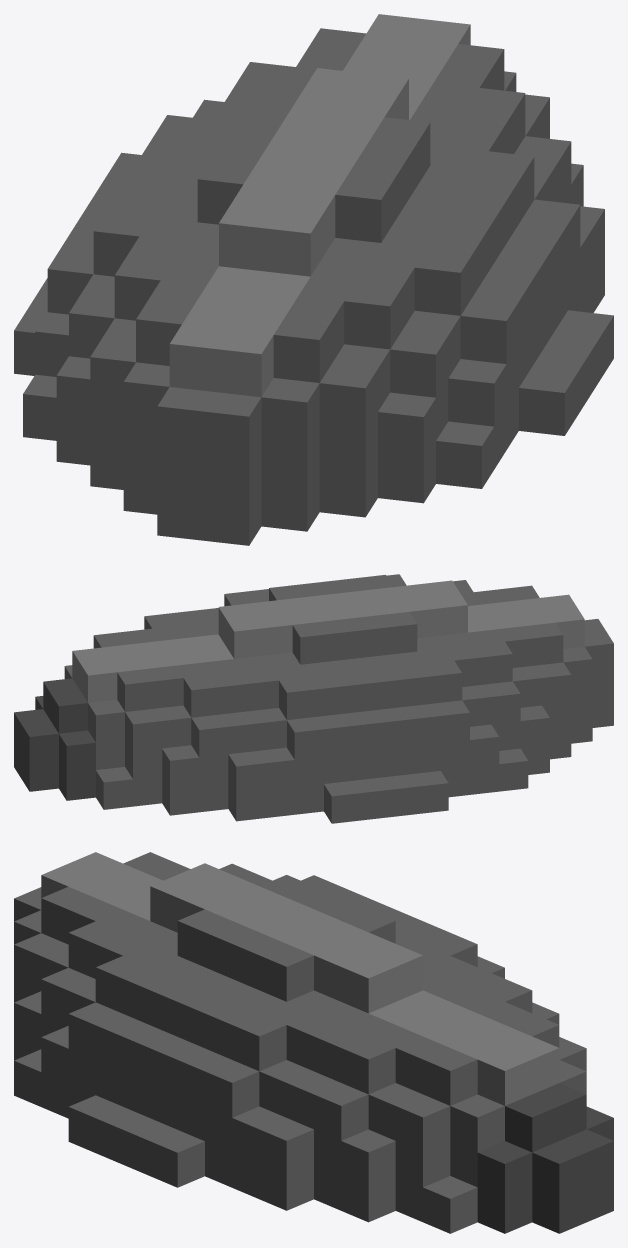
File: item_SEED_FADELEAF.glb
3 renders of one model, top to bottom at view 1: azimuth 30°, elevation 25°; view 2: azimuth 150°, elevation 25°; view 3: azimuth 270°, elevation 25°, orthographic. The views are drawn at different scales.
Visible parts, largest first — view 1: item_SEED_FADELEAF; view 2: item_SEED_FADELEAF; view 3: item_SEED_FADELEAF.
Boxes of the visible parts, x1,y1,x2,y2 form: item_SEED_FADELEAF: (14,14,613,545); item_SEED_FADELEAF: (14,574,613,823); item_SEED_FADELEAF: (14,852,613,1233).
Bounding box in the file's own units: 0.1768 × 0.0568 × 0.1768.
1 material, 1 textured.
